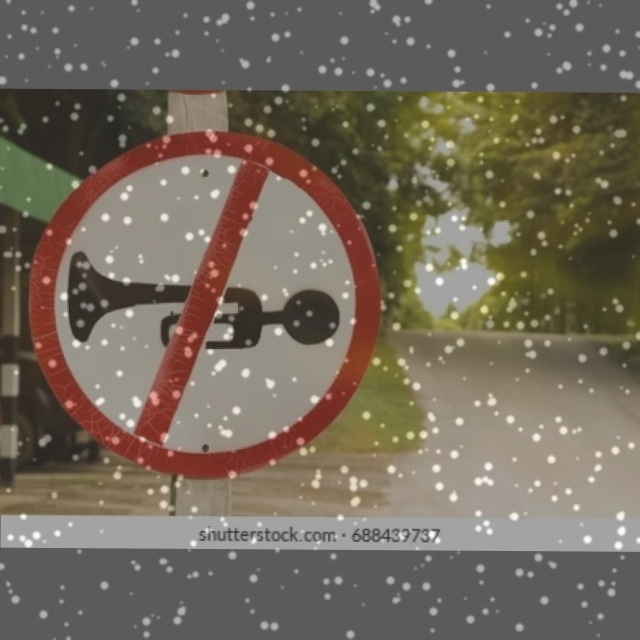Horn_Prohibited: (43, 146, 370, 459)
